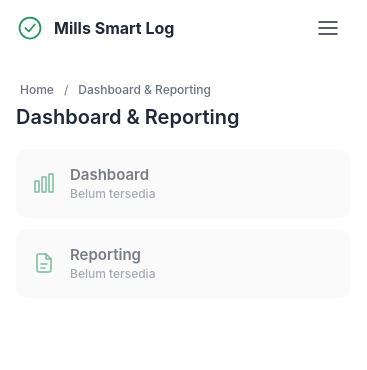
Scenario: DashboardReportingView — "Buka Dashboard & Reporting (Mobile)" › overwrites the previous info message (still a single element) when a different disabled card is tapped
Click the button with test id "menu-card-dashboard" at point(110, 174), box top-left (16, 149), bottom-right (350, 217)
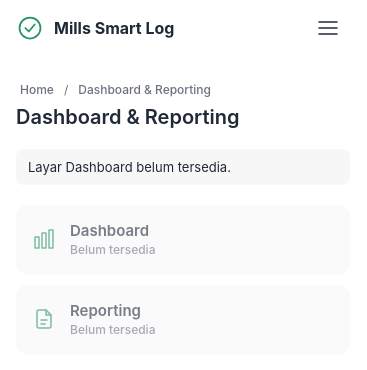
Click the button with test id "menu-card-reporting" at point(105, 310), box top-left (16, 285), bottom-right (350, 353)
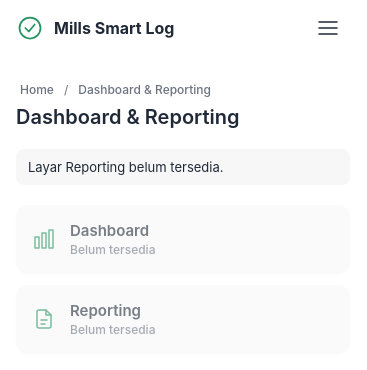
Now the message with test id "info-message" reads "Layar Reporting belum tersedia.", box top-left (28, 159), bottom-right (224, 175)
